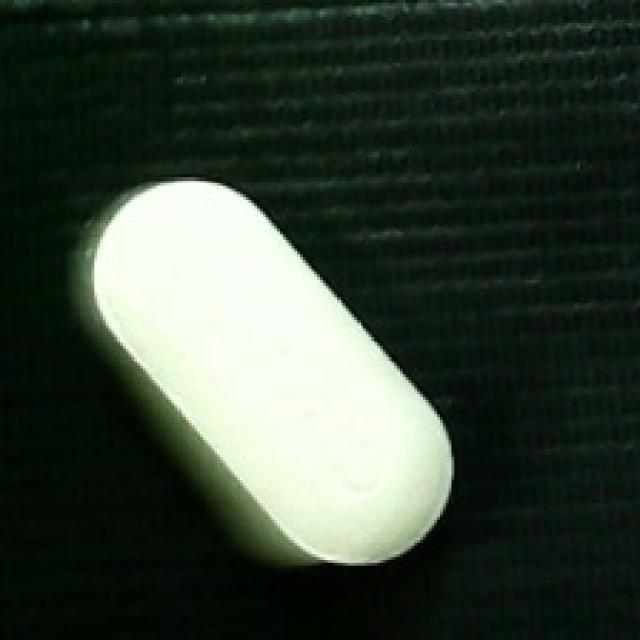no-defect: (70, 174, 458, 568)
